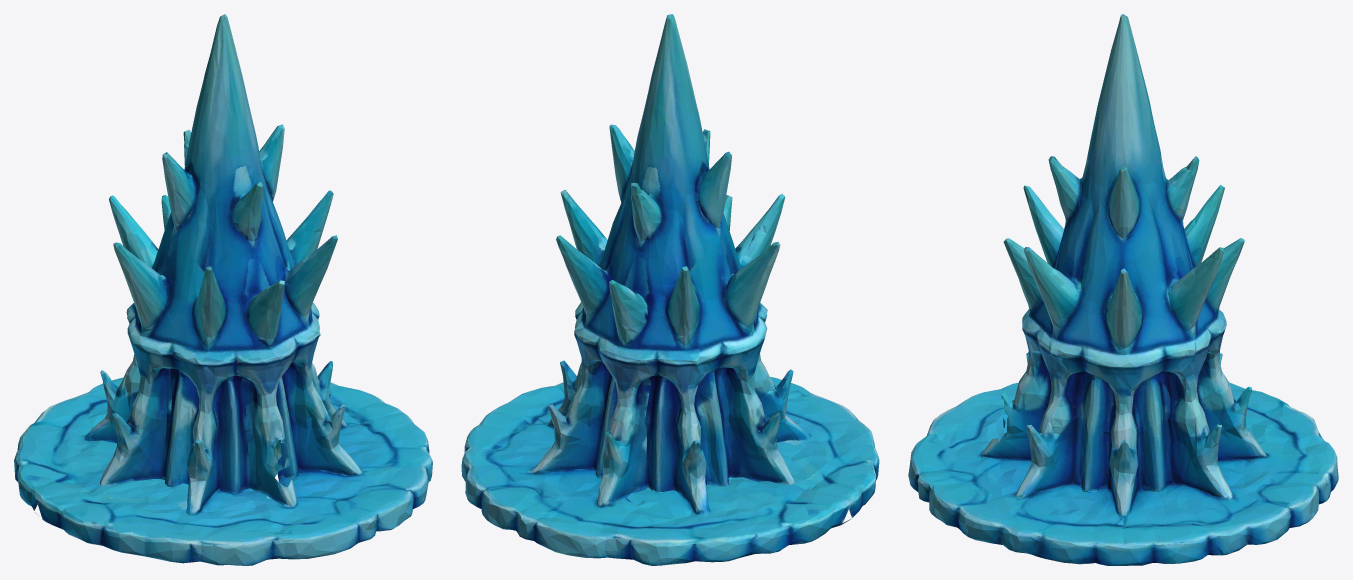
The model's file is ice_tower_1.glb.
3 views of the same model, side by side, from view 1: azimuth 30°, elevation 25°; view 2: azimuth 150°, elevation 25°; view 3: azimuth 270°, elevation 25° (orthographic).
Size of the model in its own units: 1.62 by 1.98 by 1.66.
Materials: 1 (1 with a texture image).
